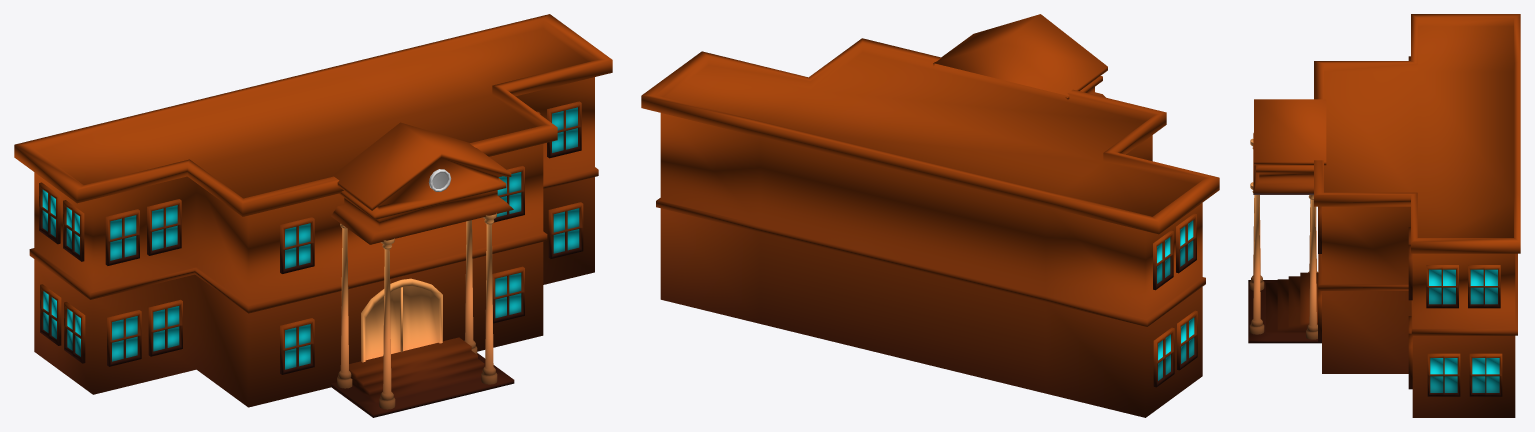
File: DirectorsBuilding.fbx
3 views of the same model, side by side, from view 1: azimuth 30°, elevation 25°; view 2: azimuth 150°, elevation 25°; view 3: azimuth 270°, elevation 25° (orthographic). The views are drawn at different scales.
Parts seen in each view (by area): view 1: DirectorsBuilding; view 2: DirectorsBuilding; view 3: DirectorsBuilding.
Boxes of the visible parts, box(x1,y1,x2,y2) form: DirectorsBuilding: box(14, 14, 612, 417); DirectorsBuilding: box(641, 14, 1219, 417); DirectorsBuilding: box(1248, 14, 1520, 417).
Size of the model in its own units: 1248 by 547 by 629.
1 material, 1 textured.
